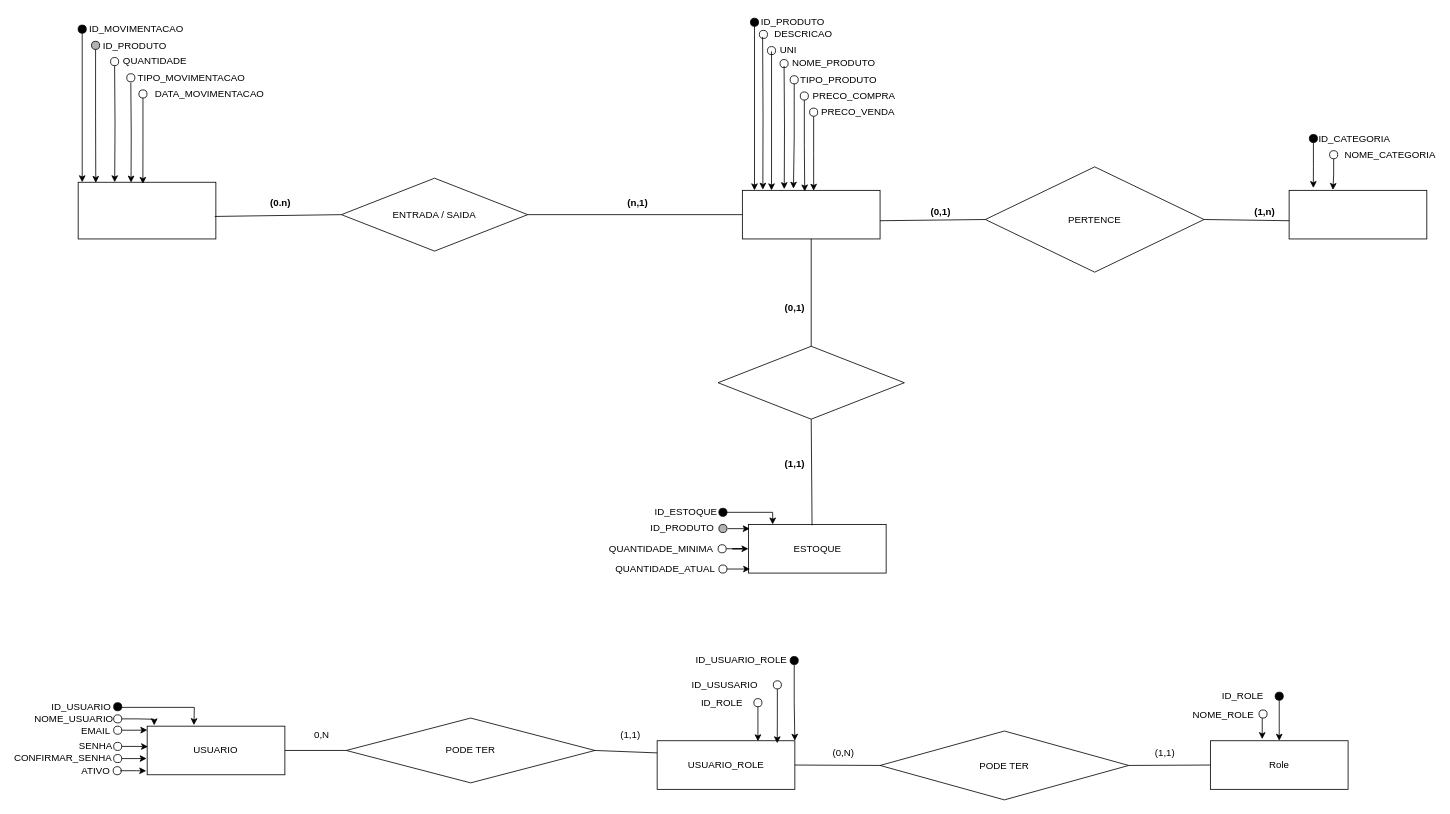
This 1450x814 diagram has some shape labels left out. The shapes that lost their labels are listed below. From the top down, each one's box as (x1, y1, x2, y2) in pixels, then its label:
(77, 181, 216, 239): MOVIMENTACAO_ESTOQUE
(742, 190, 880, 239): Produto
(1288, 190, 1427, 239): CATEGORIA
(717, 345, 904, 419): DISPONIVEL
